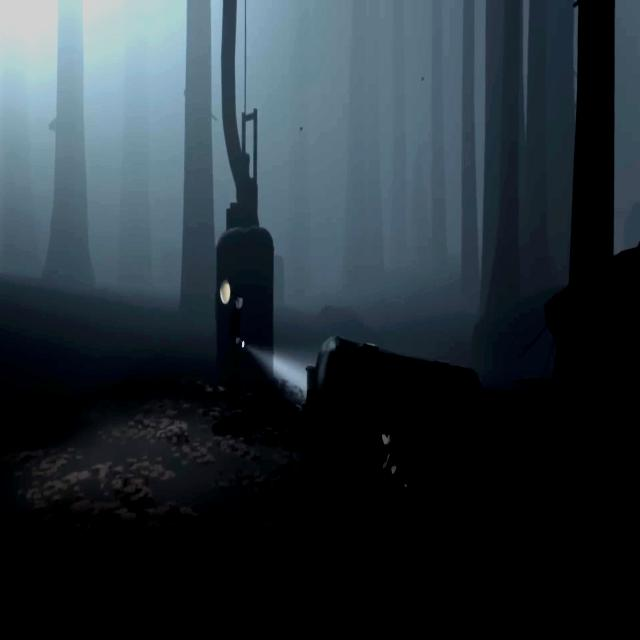boy: (382, 423, 407, 495)
human: (228, 294, 244, 379)
